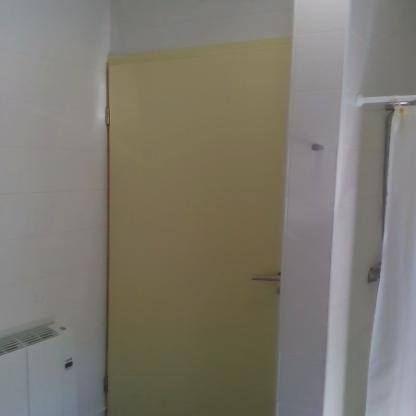door: (105, 63, 286, 415)
hinged: (104, 106, 114, 128), (103, 376, 109, 394)
lever: (249, 272, 286, 283)
